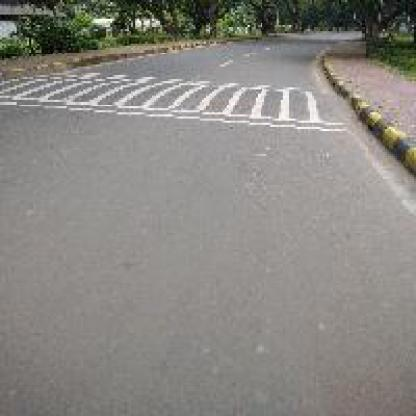Speed Bump: (0, 71, 343, 131)
